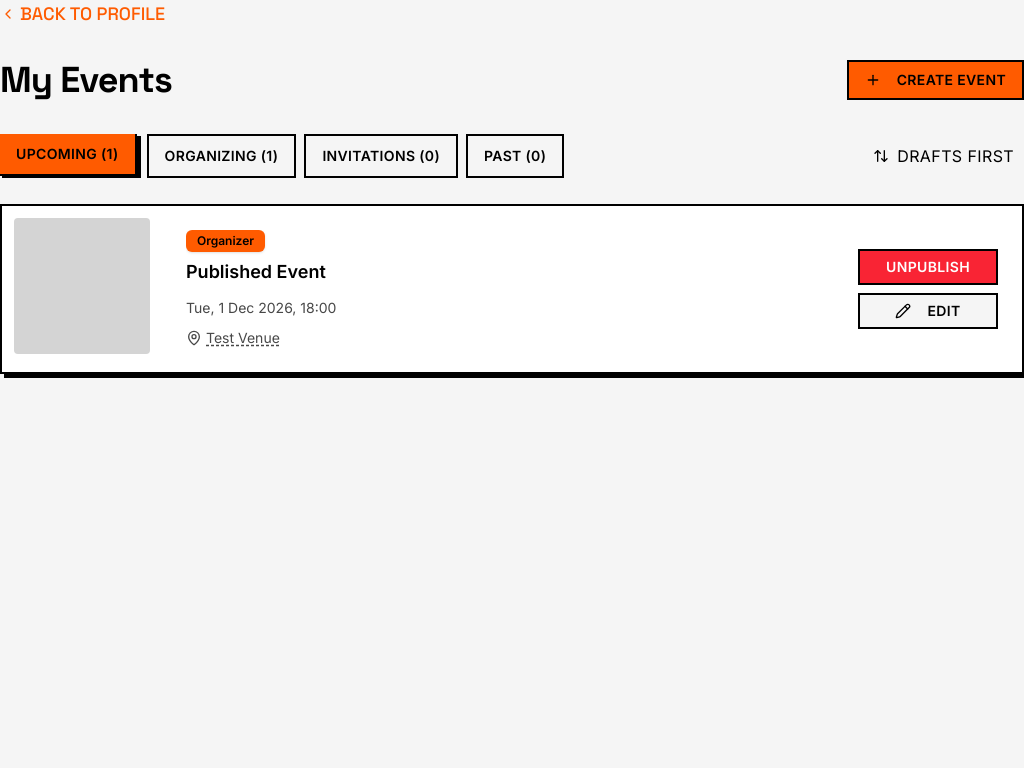
My Events Page › Unpublish Dialog › should open unpublish confirmation dialog when Unpublish is clicked
Expected: the heading "My Events" is shown, [0,60,172,100]
Click the button "Unpublish" at x=928, y=267, box [858,249,998,285]
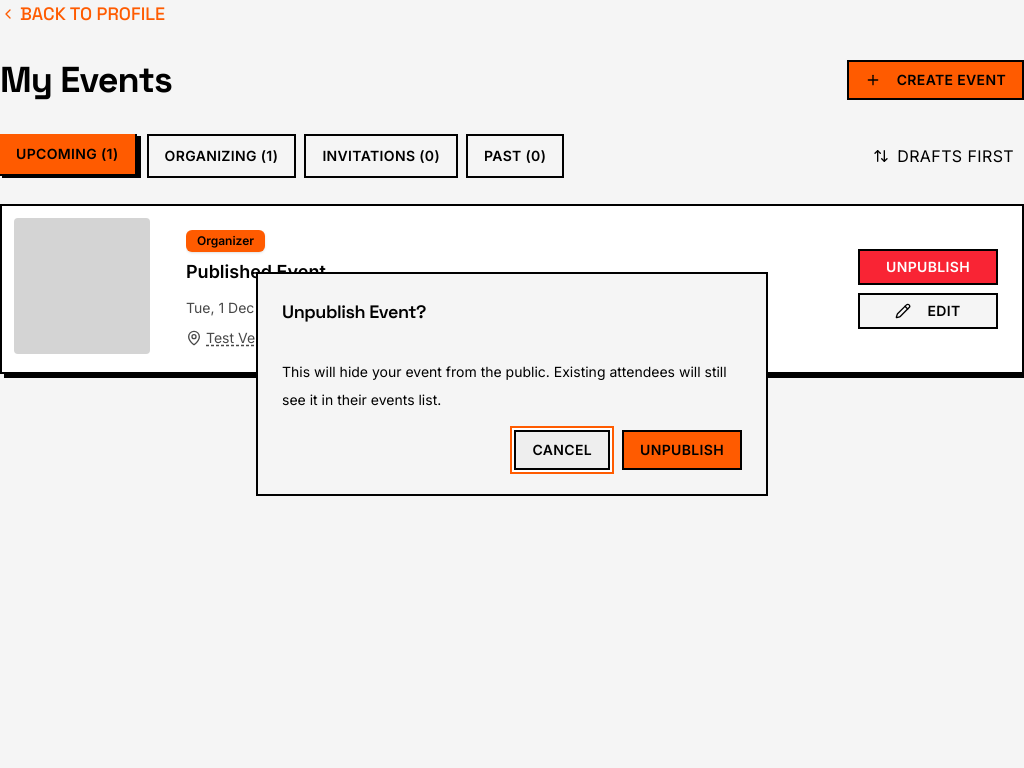
Now the heading "Unpublish Event?" is shown, box [282,300,426,323]
Now the text "hide your event from the public" is shown, box [282,363,727,408]
